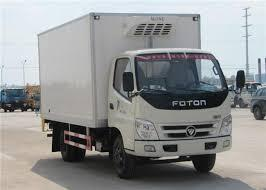truck: (95, 39, 254, 184)
